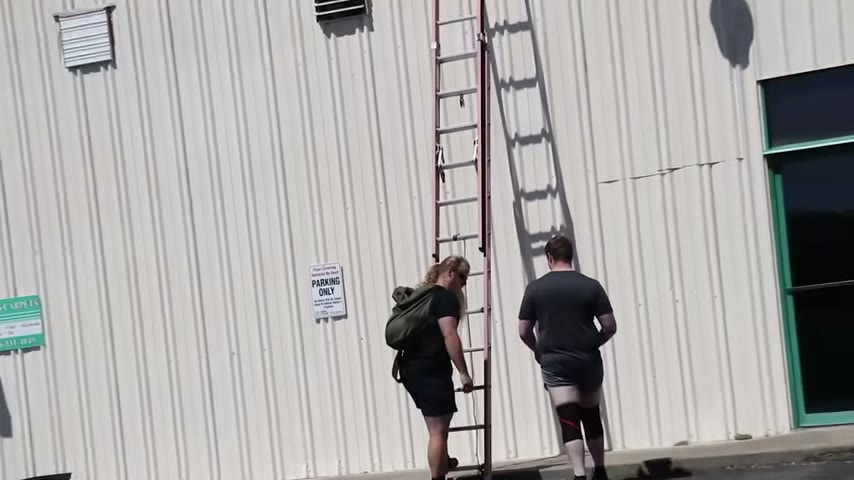barbell_plate_side: (0, 270, 48, 444)
